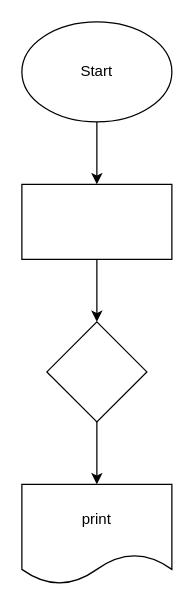
Image size: 194x606. Some labels were removed from this diagram. The shapes that lost their labels are listed below. From the top down, each one's centre as x and y in pixels, then its label:
At point (96, 221): "a = 5".
At point (96, 371): "условие".
